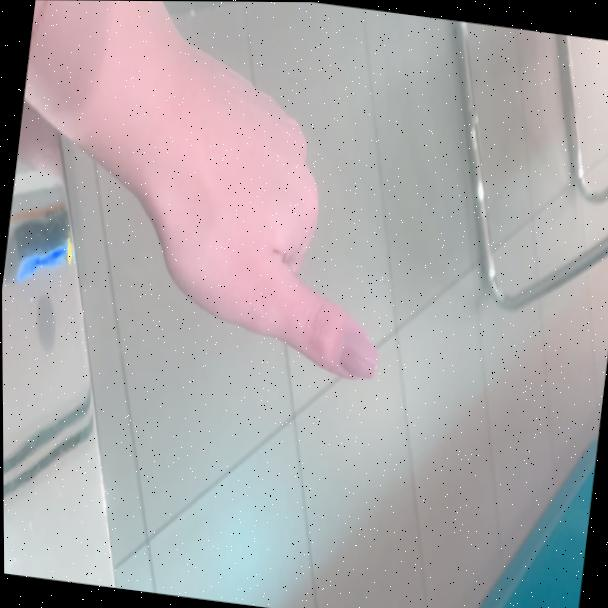five: (115, 62, 412, 395)
